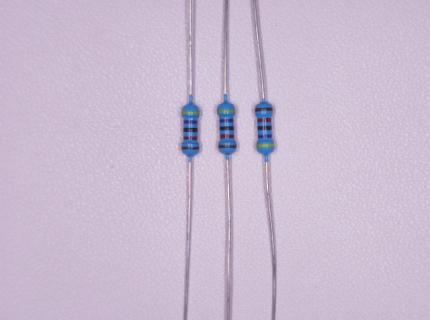Black band: (257, 126, 272, 130), (183, 128, 198, 132), (220, 126, 234, 130)
Brown band: (254, 107, 273, 112), (182, 146, 200, 150), (218, 145, 237, 148)
Red band: (220, 134, 234, 139), (183, 136, 198, 140), (257, 118, 271, 122)
Violet band: (219, 119, 234, 123), (183, 120, 197, 124), (258, 134, 272, 138)
Yellow band: (256, 143, 275, 148), (182, 111, 200, 115), (217, 109, 235, 113)
